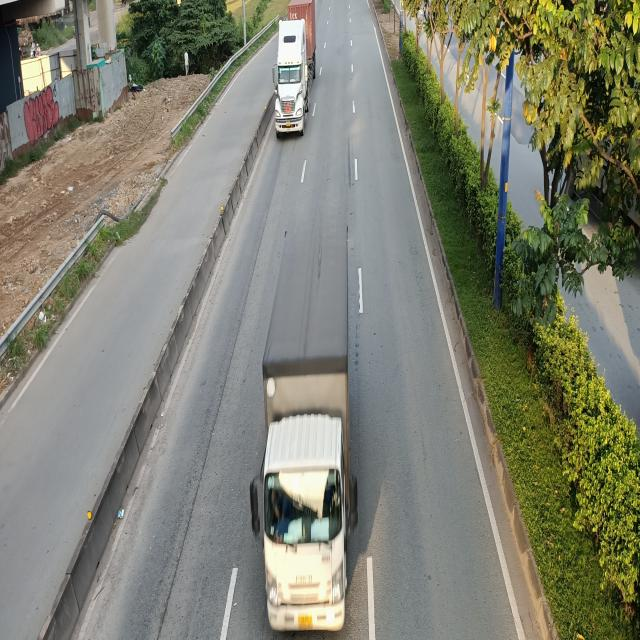container: (272, 2, 318, 138)
truck: (252, 203, 362, 636)
